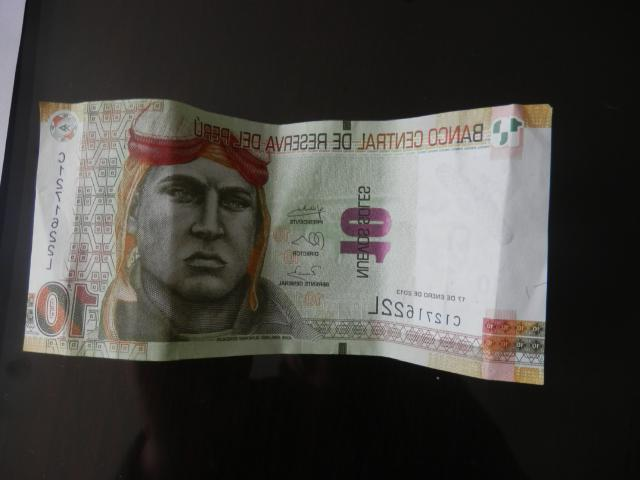B10: (24, 102, 551, 383)
